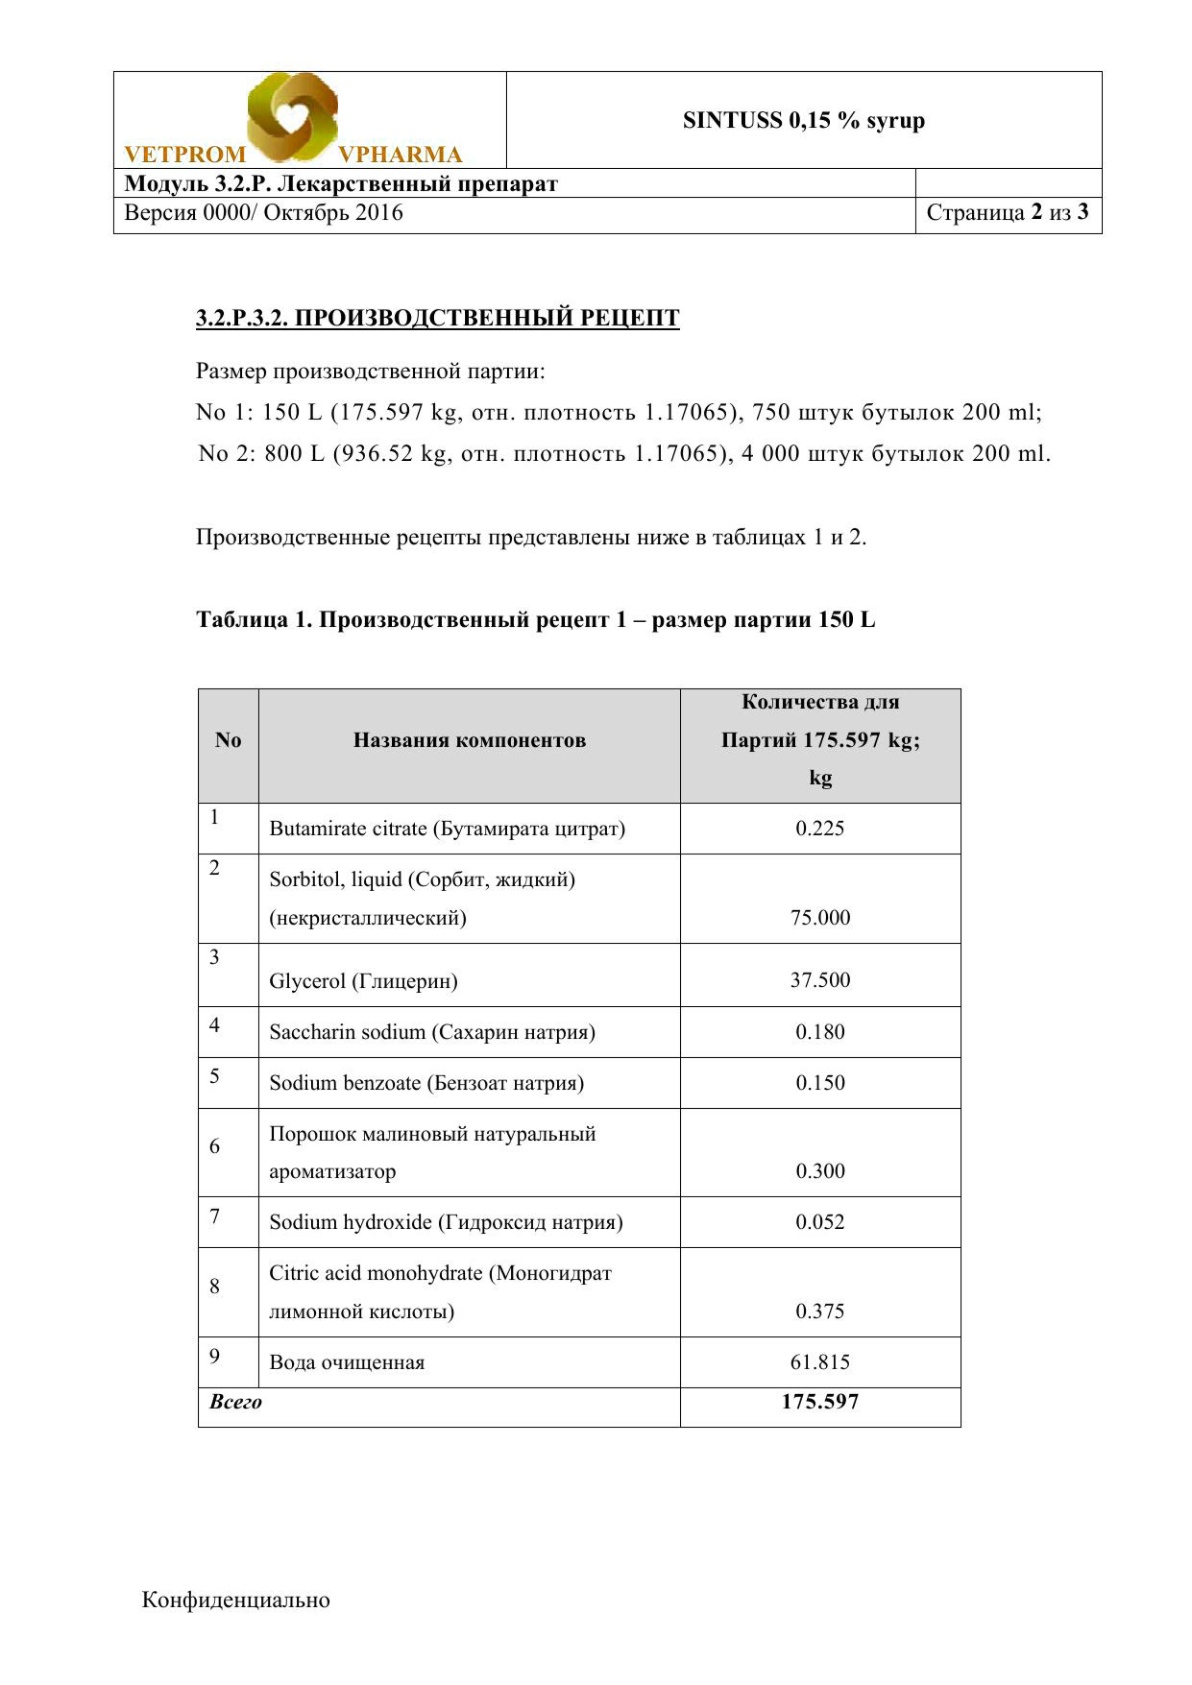full_lined: (197, 688, 962, 1428)
merged_cells: (114, 70, 1103, 235)
